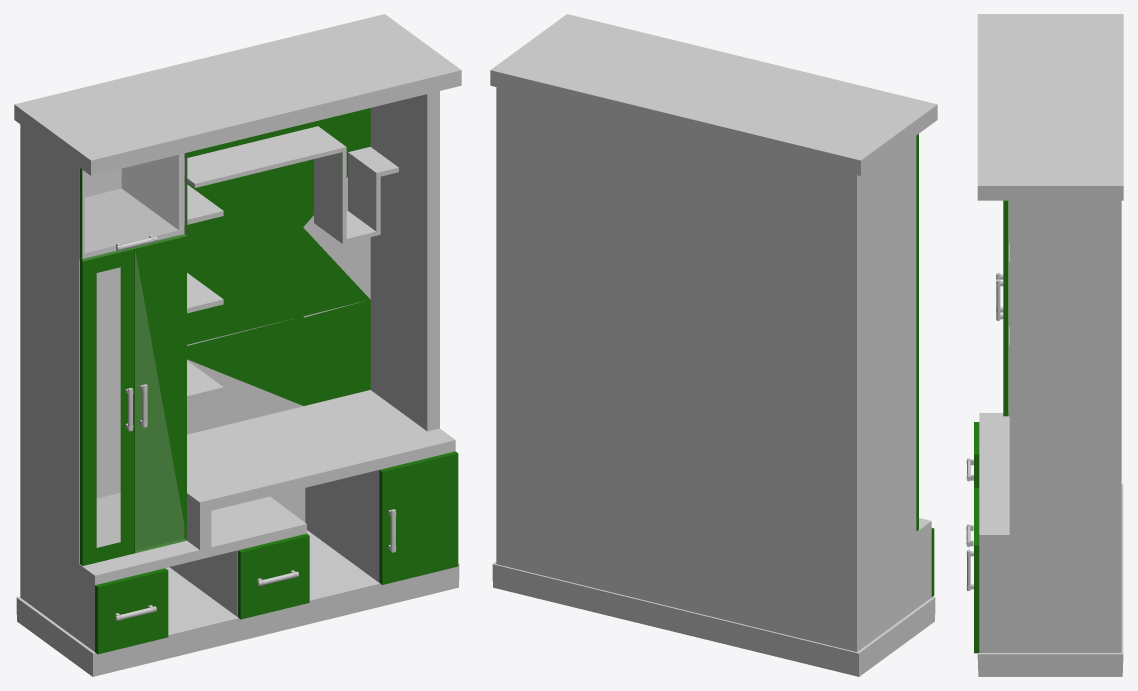
The model's file is lemari_hijau_3.glb.
3 views of the same model, side by side, from view 1: azimuth 30°, elevation 25°; view 2: azimuth 150°, elevation 25°; view 3: azimuth 270°, elevation 25° (orthographic). The views are drawn at different scales.
Visible parts, largest first — view 1: Cube; view 2: Cube; view 3: Cube.
Boxes of the visible parts, x1,y1,x2,y2 form: Cube: [14, 14, 461, 676]; Cube: [490, 14, 937, 676]; Cube: [966, 14, 1123, 676].
Size of the model in its own units: 5.73 by 7.64 by 2.21.
